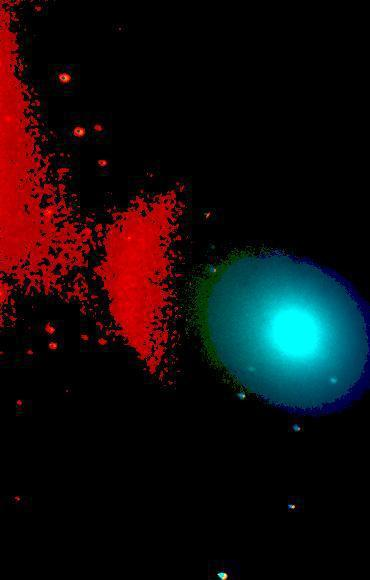star: (212, 366, 242, 396)
